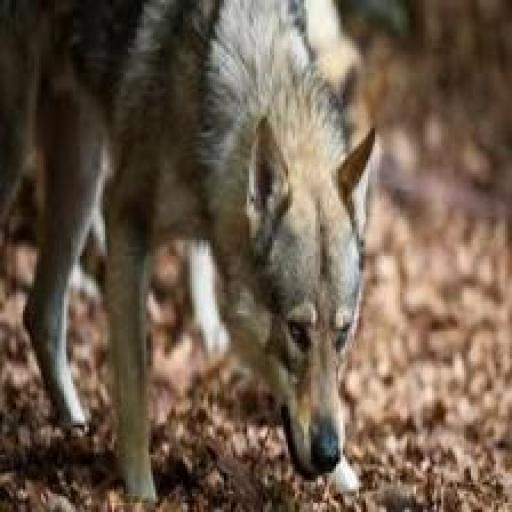wolf: (2, 7, 386, 503)
